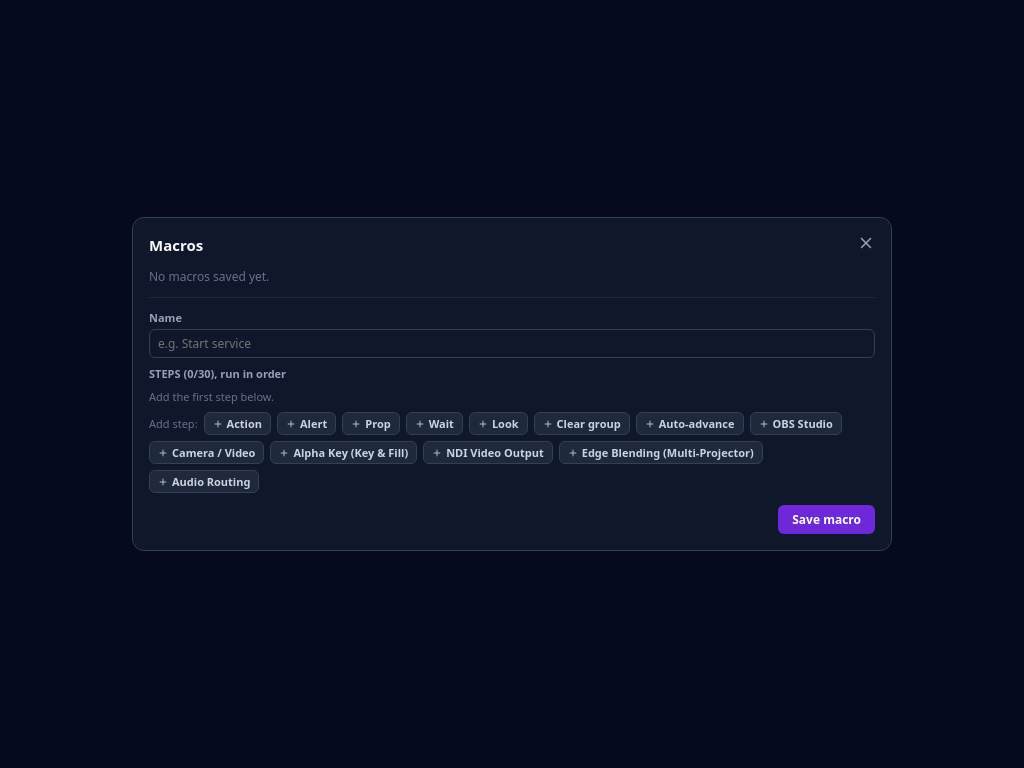
Test: Phase 11.2: OBS Studio WebSocket Integration › Macro Manager Modal OBS Step Integration UI › allows adding and configuring an OBS macro step
Click the button with test id "add-step-obs" at [796, 424], box left=750, top=412, right=842, bottom=435
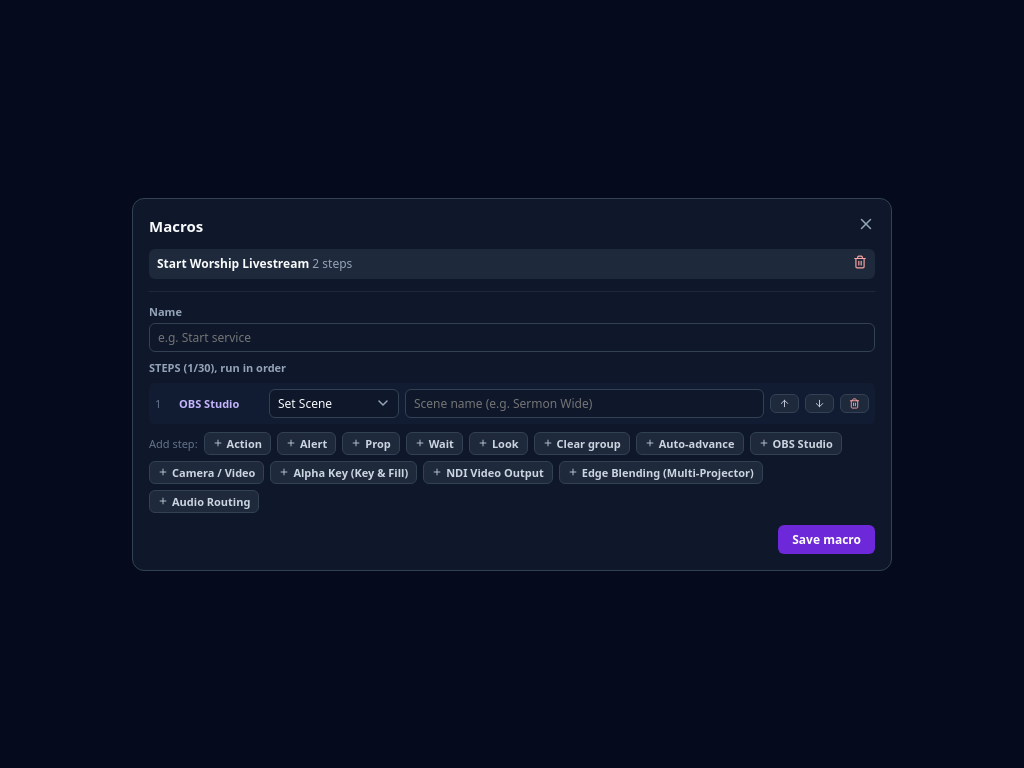
expect the dropdown with test id "step-obs-command" is shown: met, box left=269, top=388, right=399, bottom=418
expect the field with test id "step-obs-scene" is shown: met
Set scene name
Type "Pastor Message Cam" into the field with test id "step-obs-scene" at [584, 403], box left=405, top=388, right=764, bottom=418
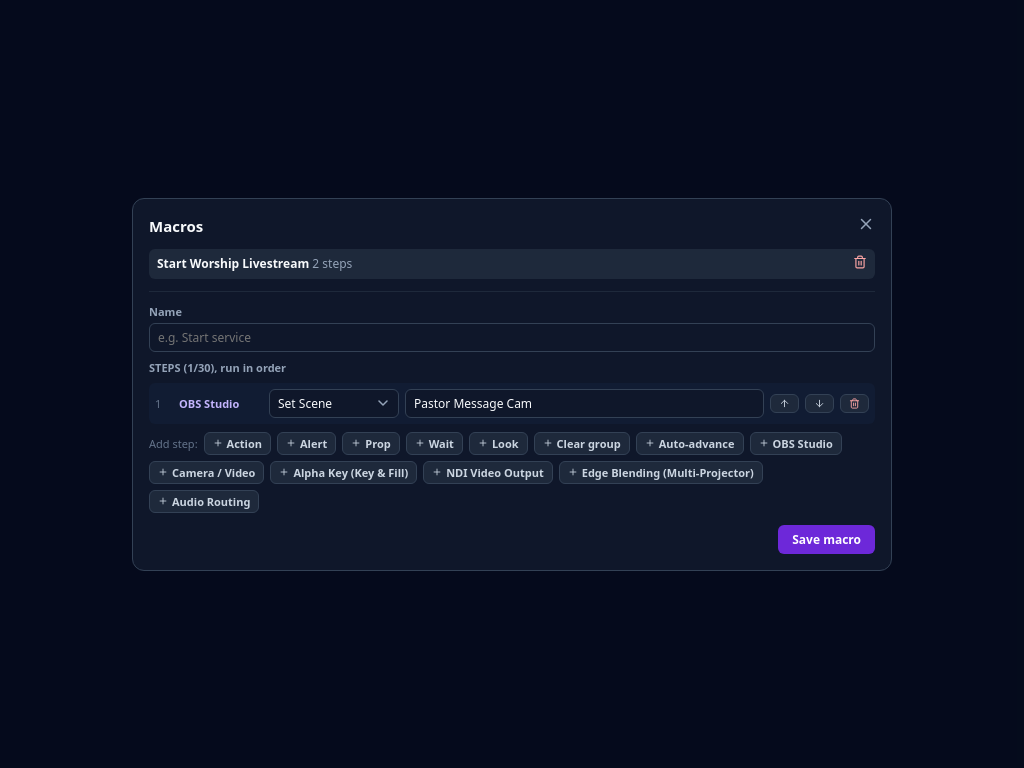
Switch command to start stream
Select "Start Stream" in the dropdown with test id "step-obs-command" at [334, 403], box left=269, top=388, right=399, bottom=418
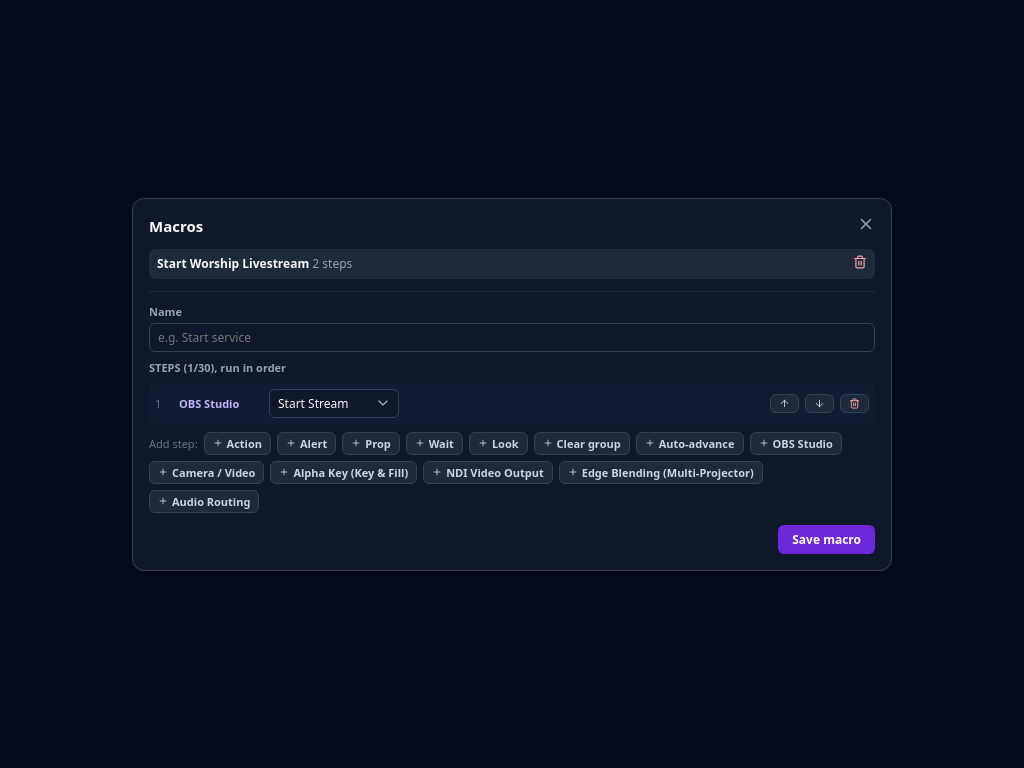
expect the field with test id "step-obs-scene" is gone: met
